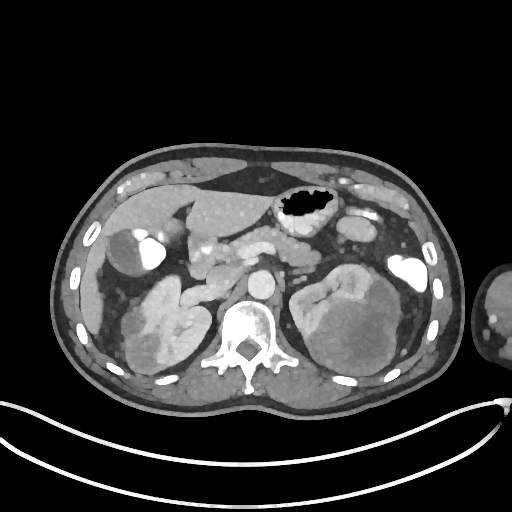Lesion: (325, 279, 398, 378)
